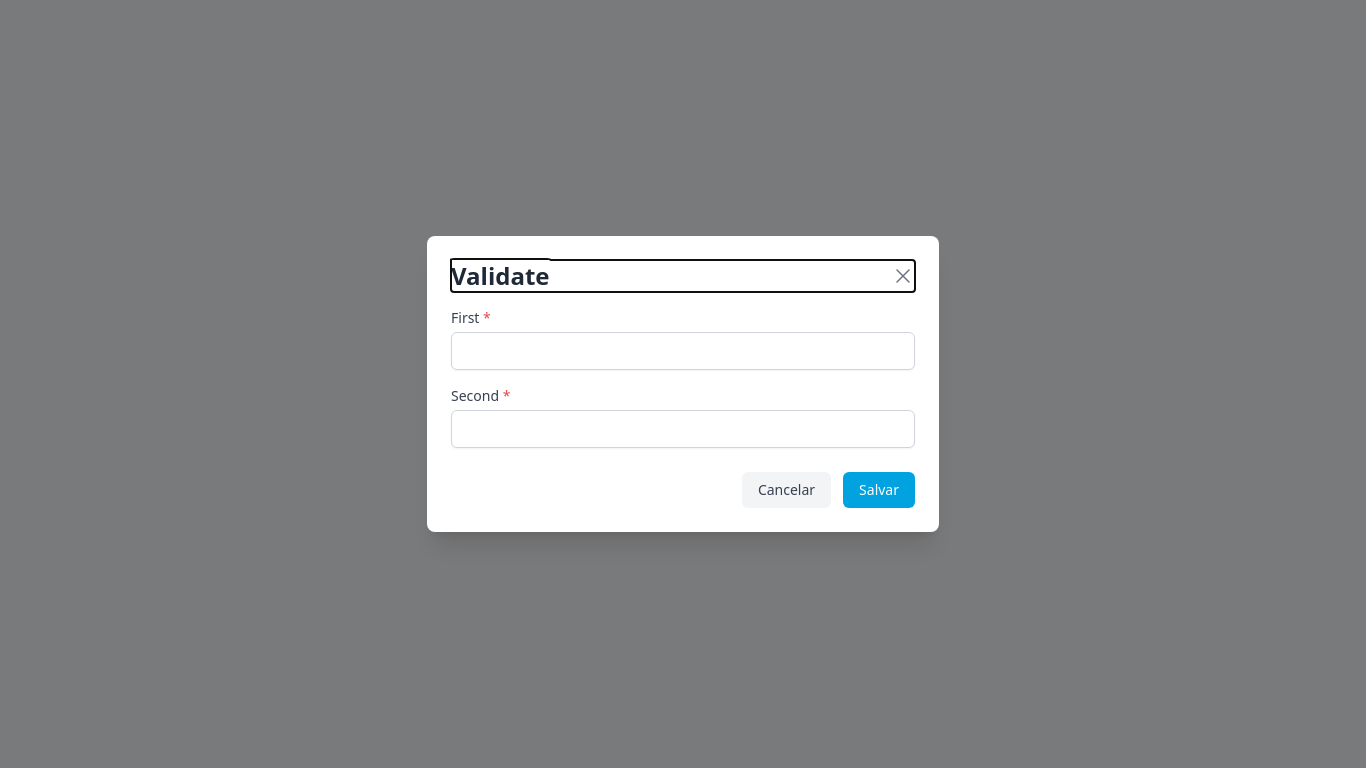
shows validation errors and focuses first invalid field
Click the button "Salvar" at point(879, 490), box [843,472,915,508]
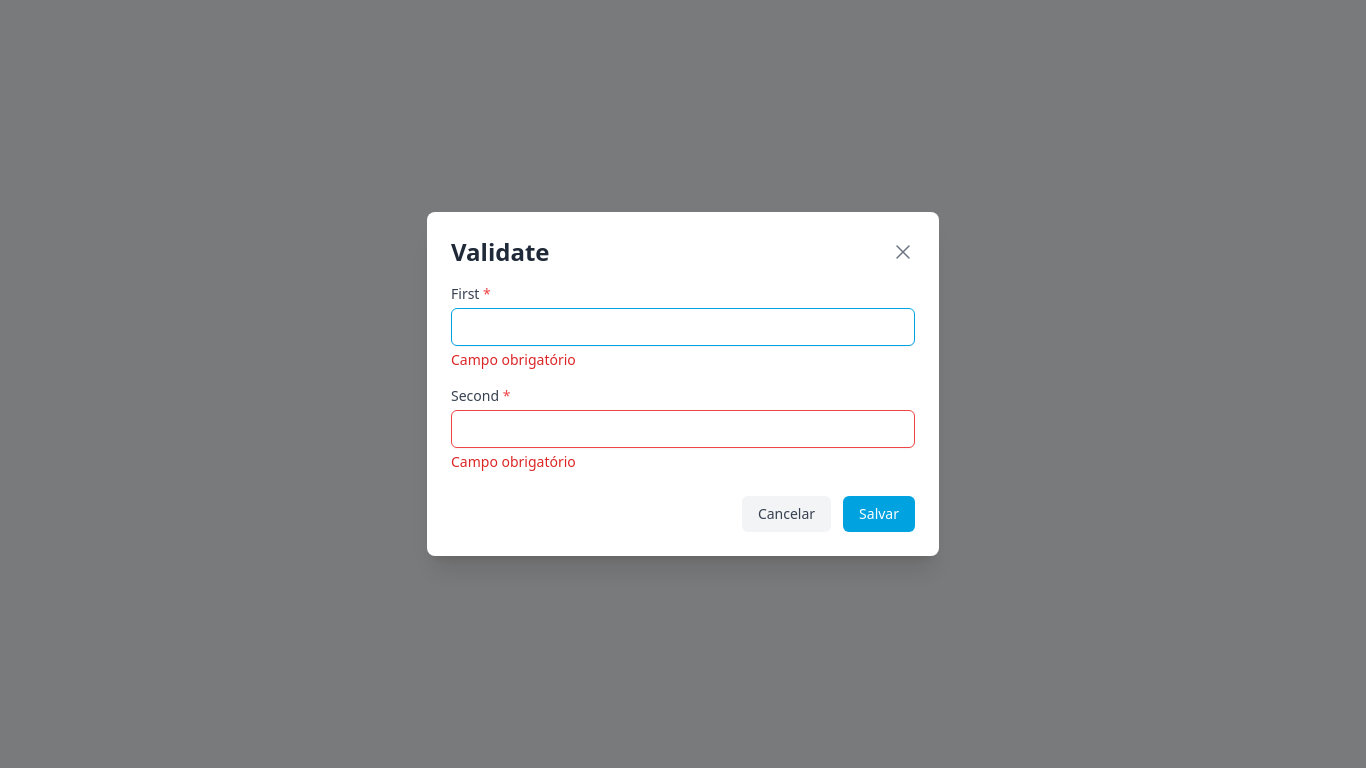
Check: the text "Campo obrigatório" is shown 2 times, box [451,350,576,369]; [451,452,576,471]
